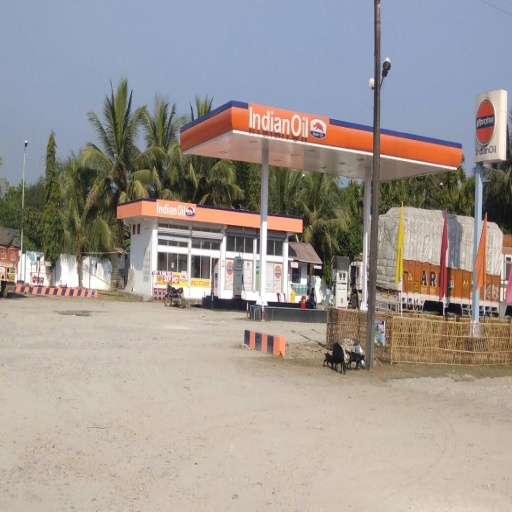roof: (180, 101, 464, 189)
